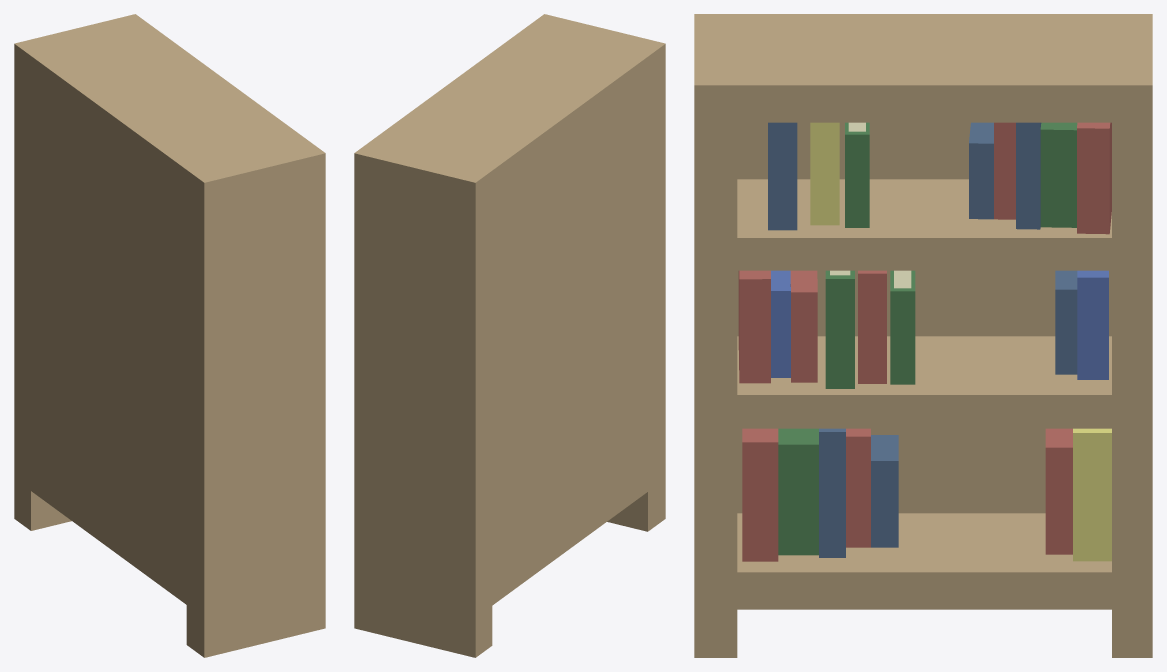
The model's file is bookshelf.fbx.
The picture shows the model from 3 angles, left to right: view 1: azimuth 30°, elevation 25°; view 2: azimuth 150°, elevation 25°; view 3: azimuth 270°, elevation 25°; orthographic projection. The views are drawn at different scales.
Parts seen in each view (by area): view 1: pCube1; view 2: pCube1; view 3: pCube1, pCube6, pCube9, pCube13, pCube10, pCube12, pCube4, pCube3, pCube5, pCube14, pCube2, pCube15.
Part boxes in pixels (<box>): pCube1: <box>14,14,325,657</box>; pCube1: <box>354,14,665,657</box>; pCube1: <box>694,14,1152,657</box>; pCube6: <box>742,428,898,561</box>; pCube9: <box>969,122,1111,234</box>; pCube13: <box>738,270,817,383</box>; pCube10: <box>1045,428,1111,561</box>; pCube12: <box>1055,270,1108,379</box>; pCube4: <box>825,270,854,388</box>; pCube3: <box>858,270,886,383</box>; pCube5: <box>768,122,797,230</box>; pCube14: <box>810,122,839,225</box>; pCube2: <box>890,270,915,384</box>; pCube15: <box>845,122,869,227</box>.
Bounding box in the file's own units: 1 × 3.74 × 2.72.
